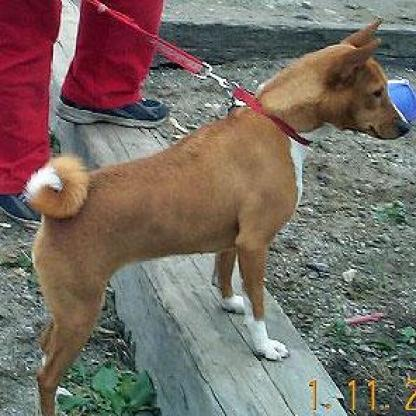basenji: (24, 21, 407, 413)
